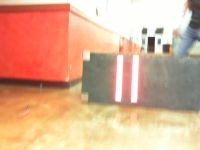switch: (129, 54, 139, 104), (114, 54, 124, 103)
